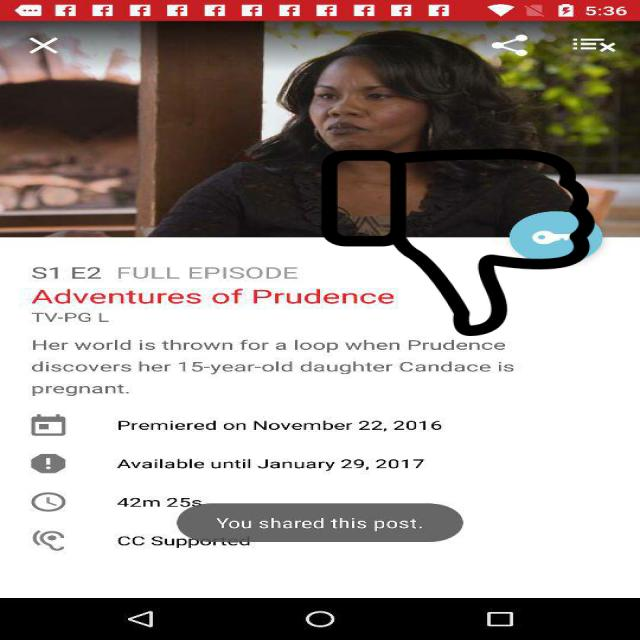obstruction: (317, 149, 598, 336)
